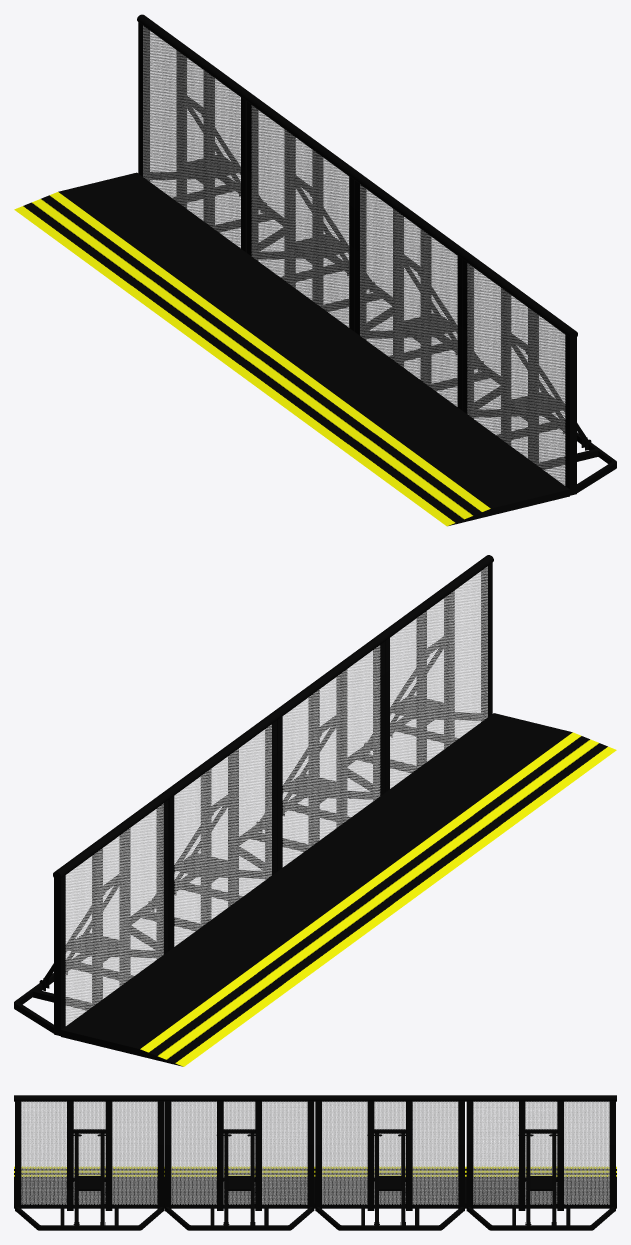
File: barricade.glb
3 views of the same model, one above another, from view 1: azimuth 30°, elevation 25°; view 2: azimuth 150°, elevation 25°; view 3: azimuth 270°, elevation 25° (orthographic). The views are drawn at different scales.
Visible parts, largest first — view 1: Plane_0.001; view 2: Plane_0.001; view 3: Plane_0.001.
Boxes of the visible parts, x1=… form: Plane_0.001: x1=14, y1=14, x2=616, y2=526; Plane_0.001: x1=14, y1=555, x2=616, y2=1066; Plane_0.001: x1=14, y1=1095, x2=616, y2=1230.
Bounding box in the file's own units: 3 × 2.5 × 11.96.
8 materials, 8 textured.
